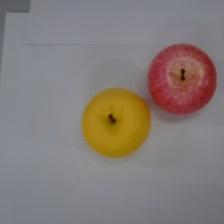red: (147, 42, 217, 115)
yellow: (81, 87, 150, 158)
